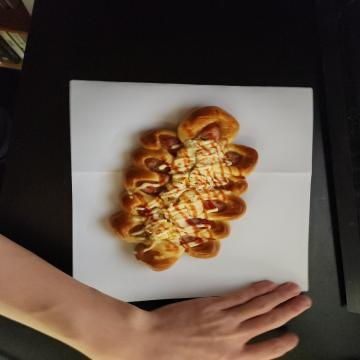pizza_bread: (108, 102, 273, 253)
